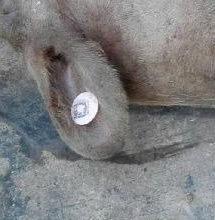text: (61, 84, 108, 132)
